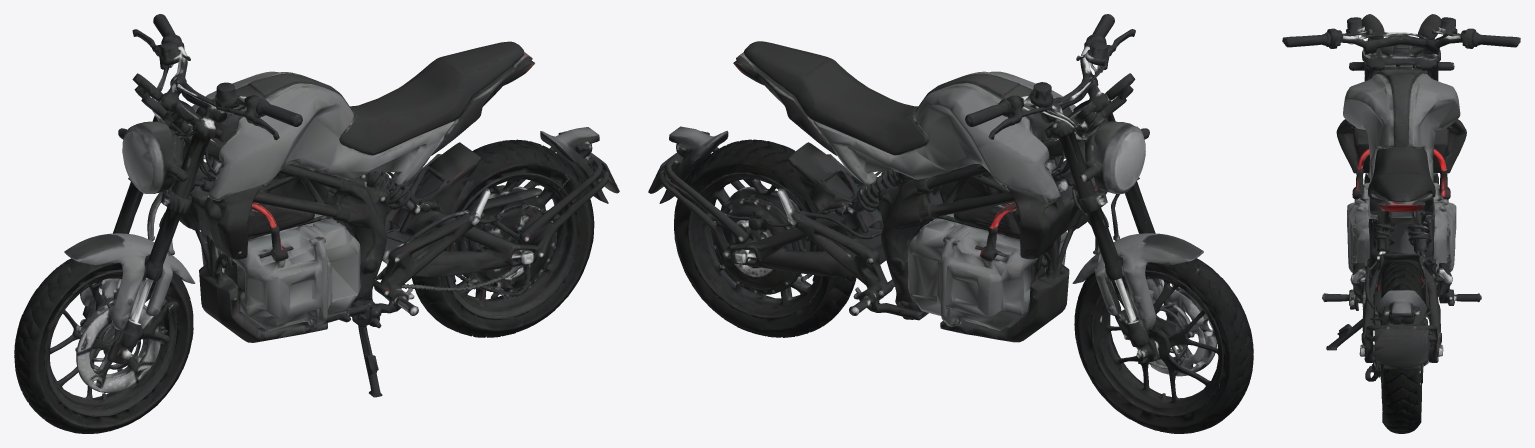
File: spark-e5.glb
3 views of the same model, side by side, from view 1: azimuth 30°, elevation 25°; view 2: azimuth 150°, elevation 25°; view 3: azimuth 270°, elevation 25° (orthographic). The views are drawn at different scales.
Size of the model in its own units: 1.9 by 1.05 by 0.8029.
1 material, 1 textured.
